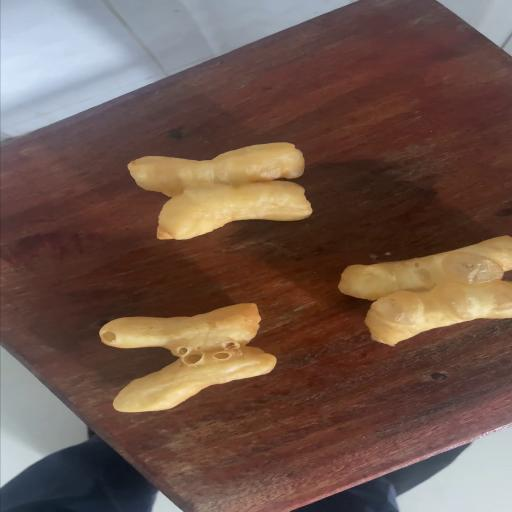street_golden_defect: (102, 304, 276, 410), (340, 236, 510, 344)
street_golden_good: (127, 143, 312, 240)
